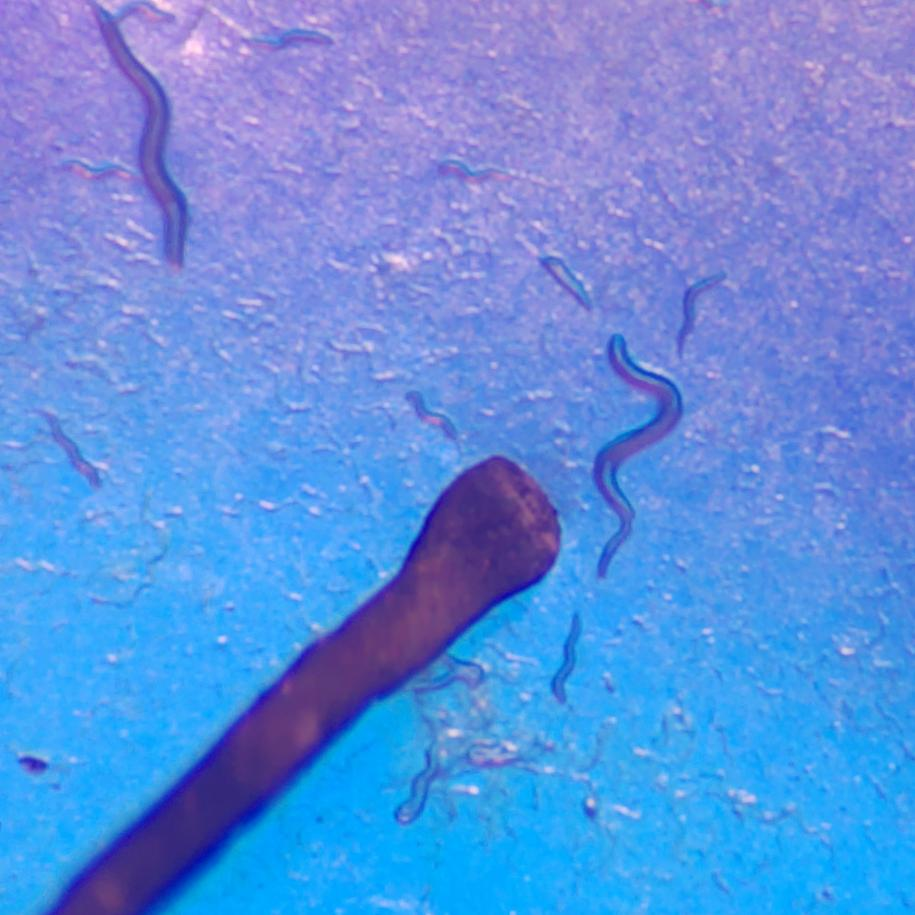pick: (48, 456, 559, 914)
worm: (92, 2, 187, 267), (593, 334, 681, 577), (37, 411, 100, 487), (676, 271, 725, 357), (395, 748, 438, 824), (540, 255, 592, 310), (551, 612, 580, 702), (405, 391, 457, 441), (244, 28, 332, 49), (438, 157, 508, 182)
